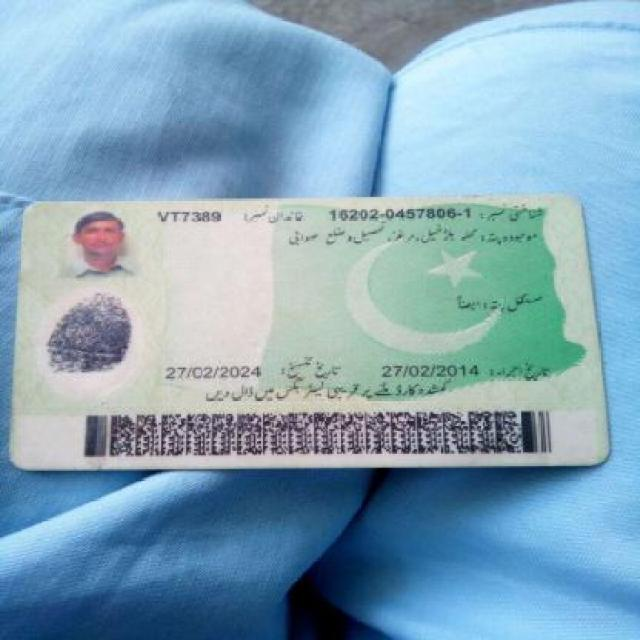Back: (15, 194, 612, 468)
